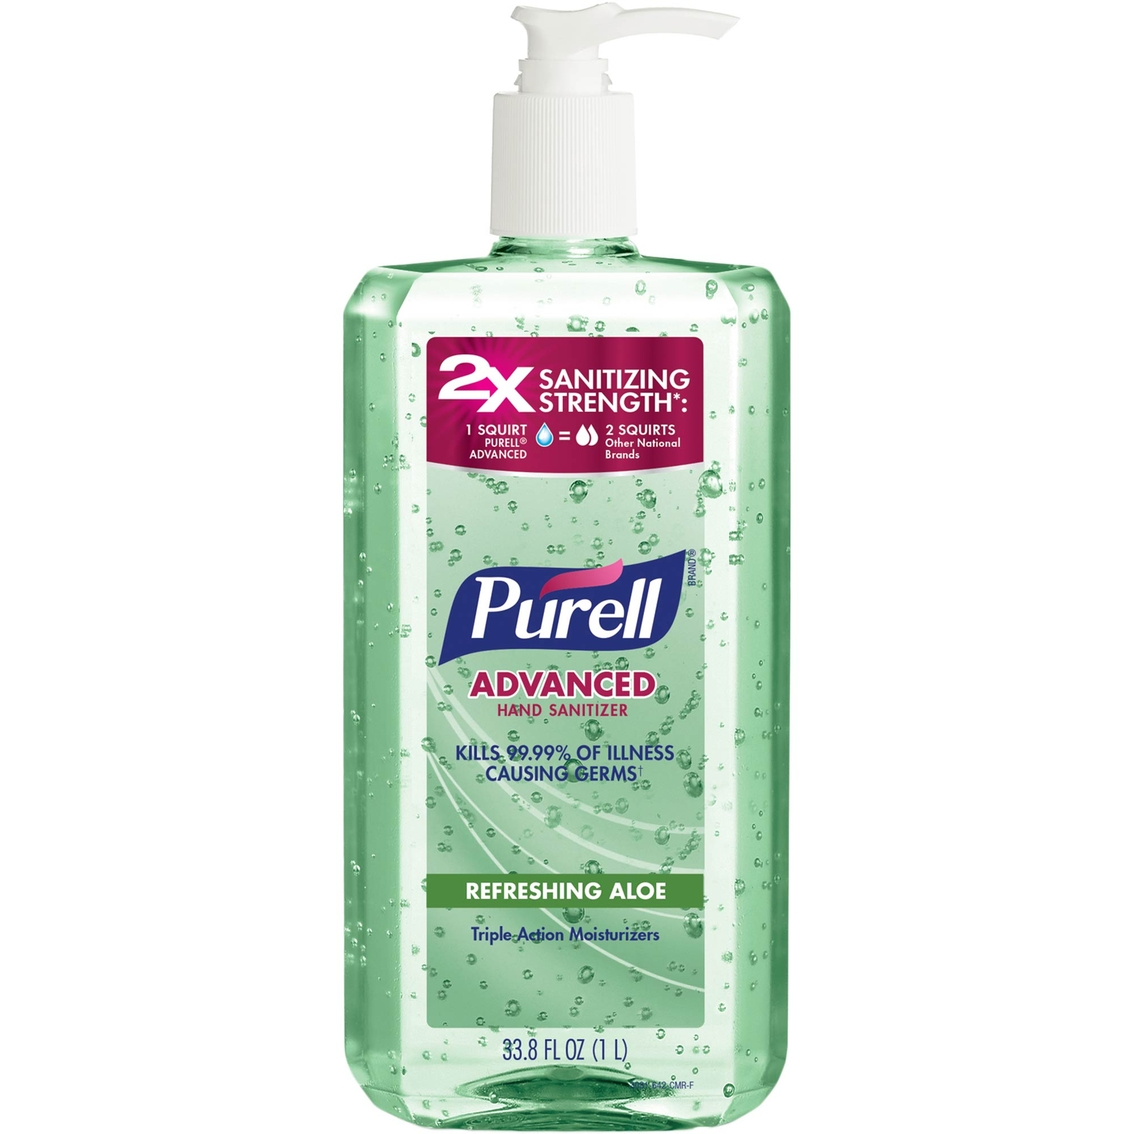Sanitizer: (319, 4, 808, 1134)
